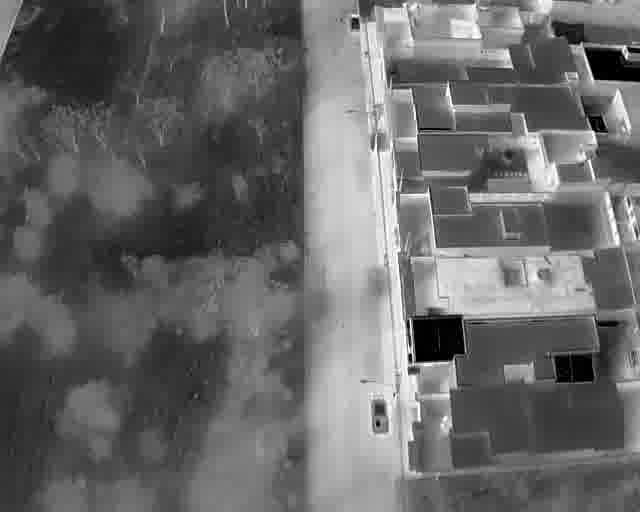car: (370, 399, 389, 433), (350, 12, 361, 33)
